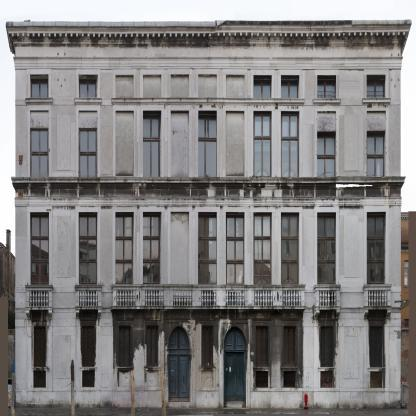Building Outline: (5, 19, 412, 408)
Door: (168, 327, 191, 408), (223, 327, 246, 408)
Facade: (6, 19, 413, 408)
Floor: (15, 198, 401, 313)
Floor Slab: (15, 193, 401, 197), (15, 309, 401, 313)
Ground Floor: (15, 314, 401, 409)
Molding: (8, 31, 409, 39)
Sill: (111, 98, 305, 105), (110, 305, 307, 311), (25, 306, 53, 319), (313, 306, 341, 319), (75, 306, 102, 319), (362, 98, 391, 105), (312, 98, 341, 105), (25, 98, 53, 105), (74, 98, 102, 105)
Top Floor: (15, 57, 401, 198)
Window: (198, 212, 217, 306), (367, 212, 386, 306), (253, 212, 272, 306), (30, 212, 49, 306), (79, 212, 98, 306), (115, 212, 134, 305), (226, 212, 244, 306), (281, 212, 299, 306), (318, 212, 336, 306), (143, 212, 161, 305), (143, 110, 162, 177), (198, 110, 217, 177), (253, 111, 272, 177), (281, 111, 299, 177), (30, 128, 49, 177), (79, 128, 97, 177), (317, 131, 336, 177), (367, 131, 385, 177), (370, 326, 383, 368), (283, 326, 296, 367), (320, 326, 333, 367), (147, 325, 159, 367), (202, 325, 214, 367), (34, 327, 46, 368), (83, 326, 95, 367), (119, 326, 131, 367), (256, 326, 268, 367), (254, 75, 273, 98), (317, 75, 336, 98), (79, 75, 97, 98), (30, 75, 48, 98), (281, 75, 299, 98), (367, 75, 385, 98), (82, 370, 95, 387), (33, 371, 46, 388), (370, 371, 383, 388), (283, 371, 296, 388), (320, 371, 333, 388), (256, 371, 268, 388)
